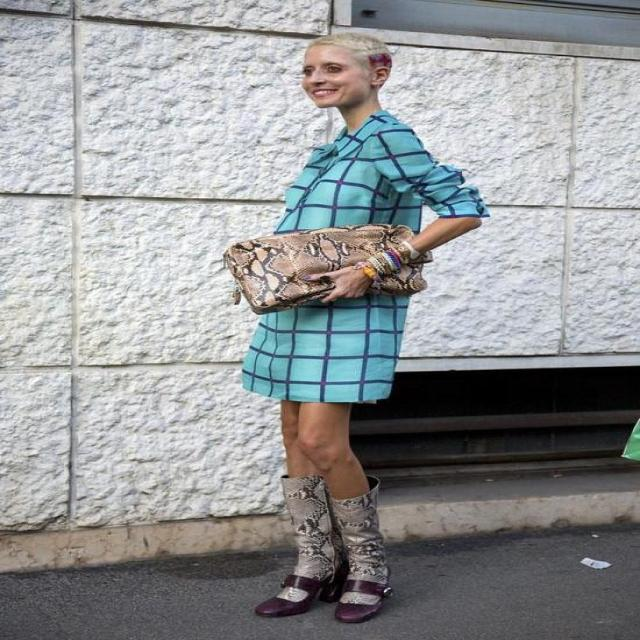dress: (238, 111, 492, 404)
